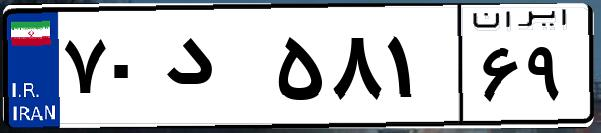0: (110, 28, 158, 98)
1: (385, 28, 445, 110)
5: (270, 28, 330, 110)
6: (475, 38, 525, 113)
7: (57, 26, 110, 100)
8: (330, 28, 385, 110)
9: (525, 38, 570, 115)
د: (158, 20, 270, 120)
